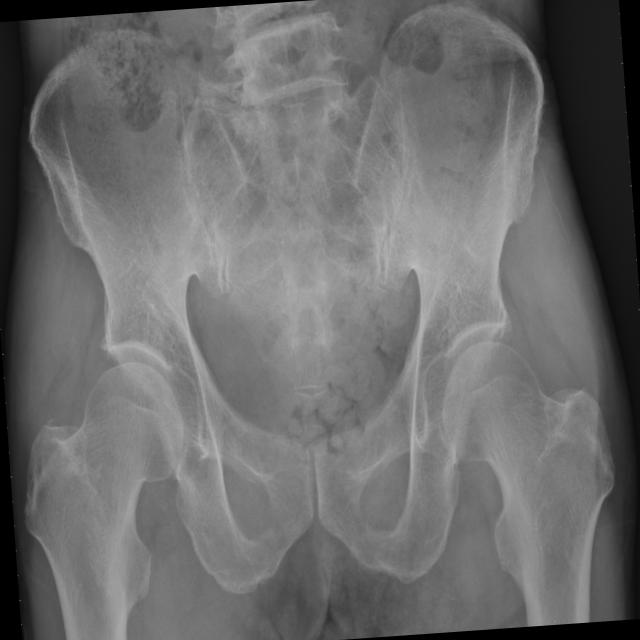normal-left: (442, 340, 616, 626)
normal-right: (24, 361, 183, 640)
